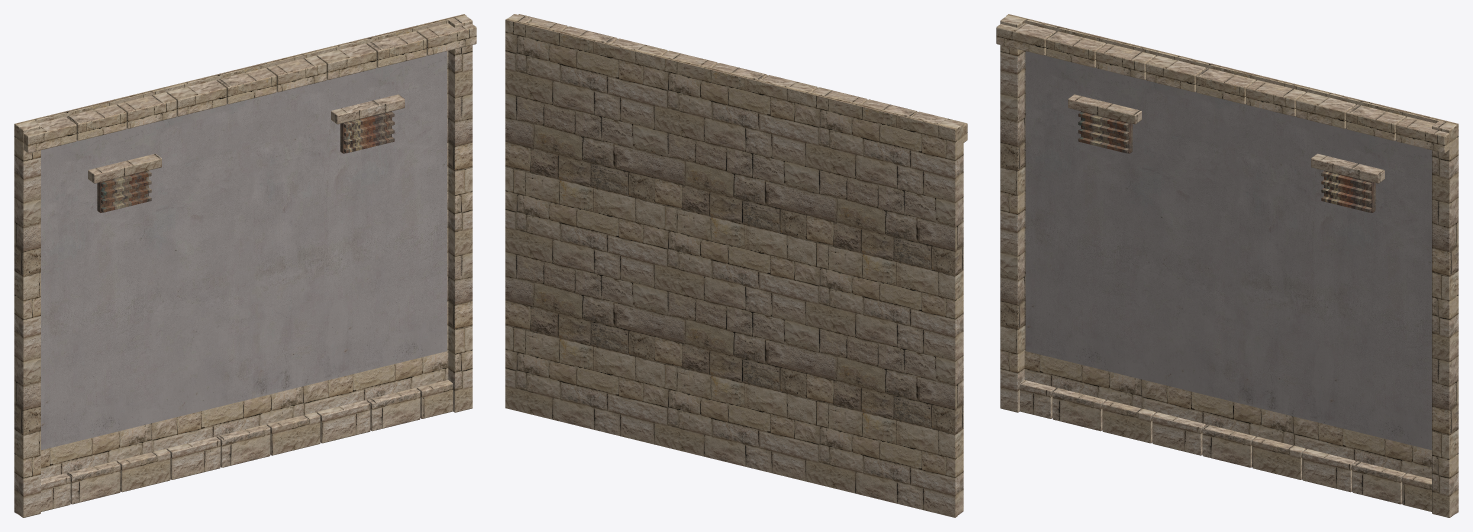
Rendered from caravan-east-north.glb.
3 renders of one model, left to right at view 1: azimuth 30°, elevation 25°; view 2: azimuth 150°, elevation 25°; view 3: azimuth 330°, elevation 25°, orthographic.
Parts seen in each view (by area): view 1: Ashlar wall skin; view 2: Ashlar wall skin; view 3: Ashlar wall skin.
Part boxes in pixels (<box>): Ashlar wall skin: <box>14,14,476,517</box>; Ashlar wall skin: <box>505,14,967,517</box>; Ashlar wall skin: <box>996,14,1458,517</box>.
Bounding box in the file's own units: 5.94 × 4.9 × 0.3.
Materials: 3 (3 with a texture image).
